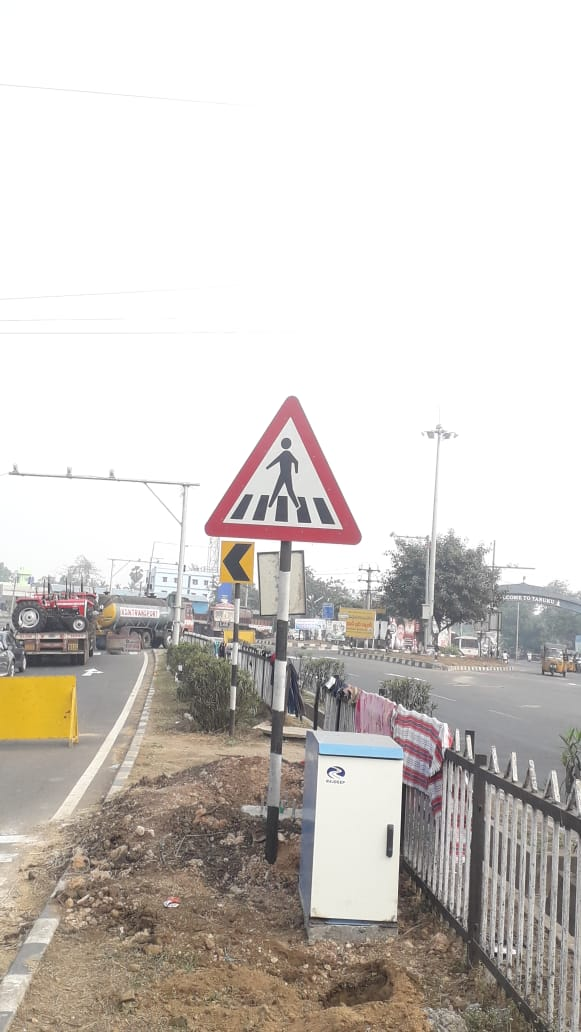pedestrian crossing: (205, 388, 367, 553)
